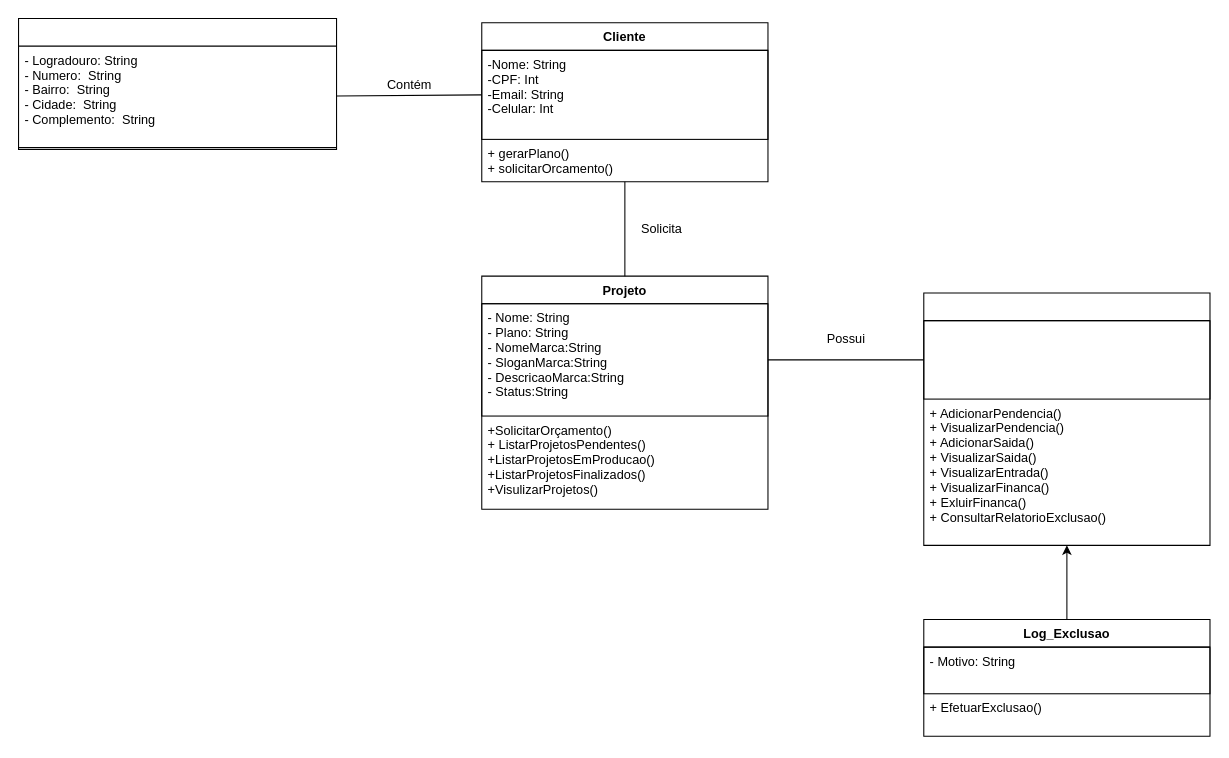
Image size: 1229x758. Some labels were removed from this diagram. The shapes that lost their labels are listed below. From the top down, each one's box as (x1, y1, x2, y2) in pixels, then its label:
(17, 17, 337, 149): Endereco
(923, 320, 1210, 399): - Data: String - Valor: String - Descricao:String - Categoria:String
(923, 292, 1210, 545): Dados_Financeiro
